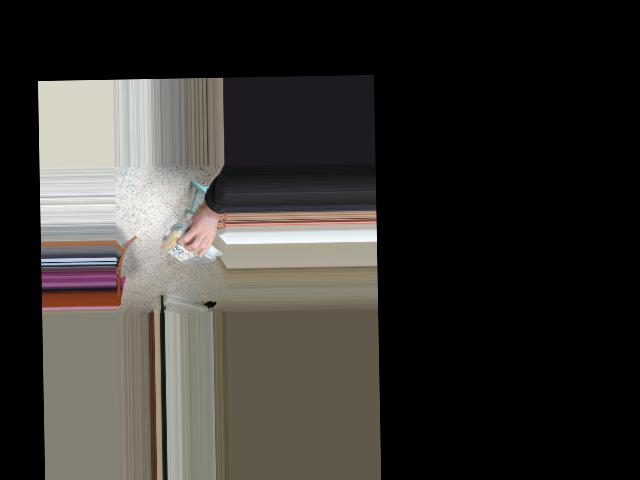cheese: (154, 232, 219, 261)
